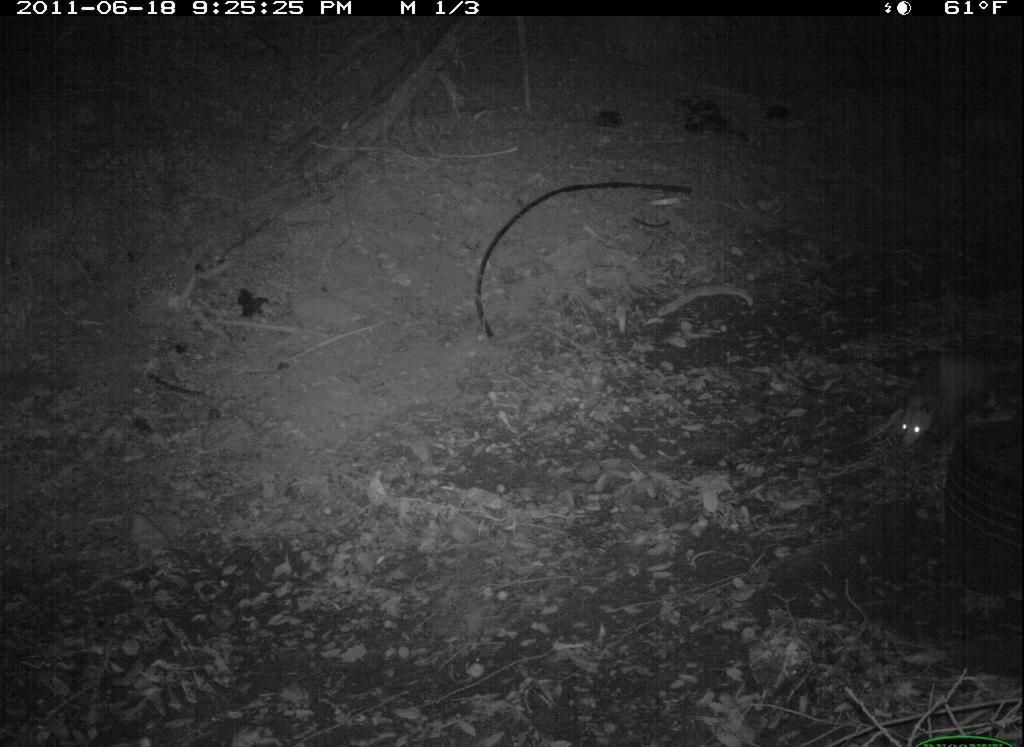opossum: (872, 342, 1024, 460)
